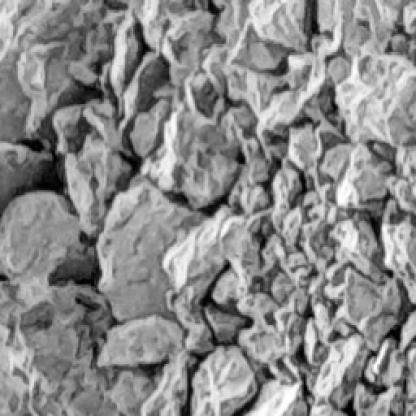cementitious_debris: (190, 5, 413, 414)
